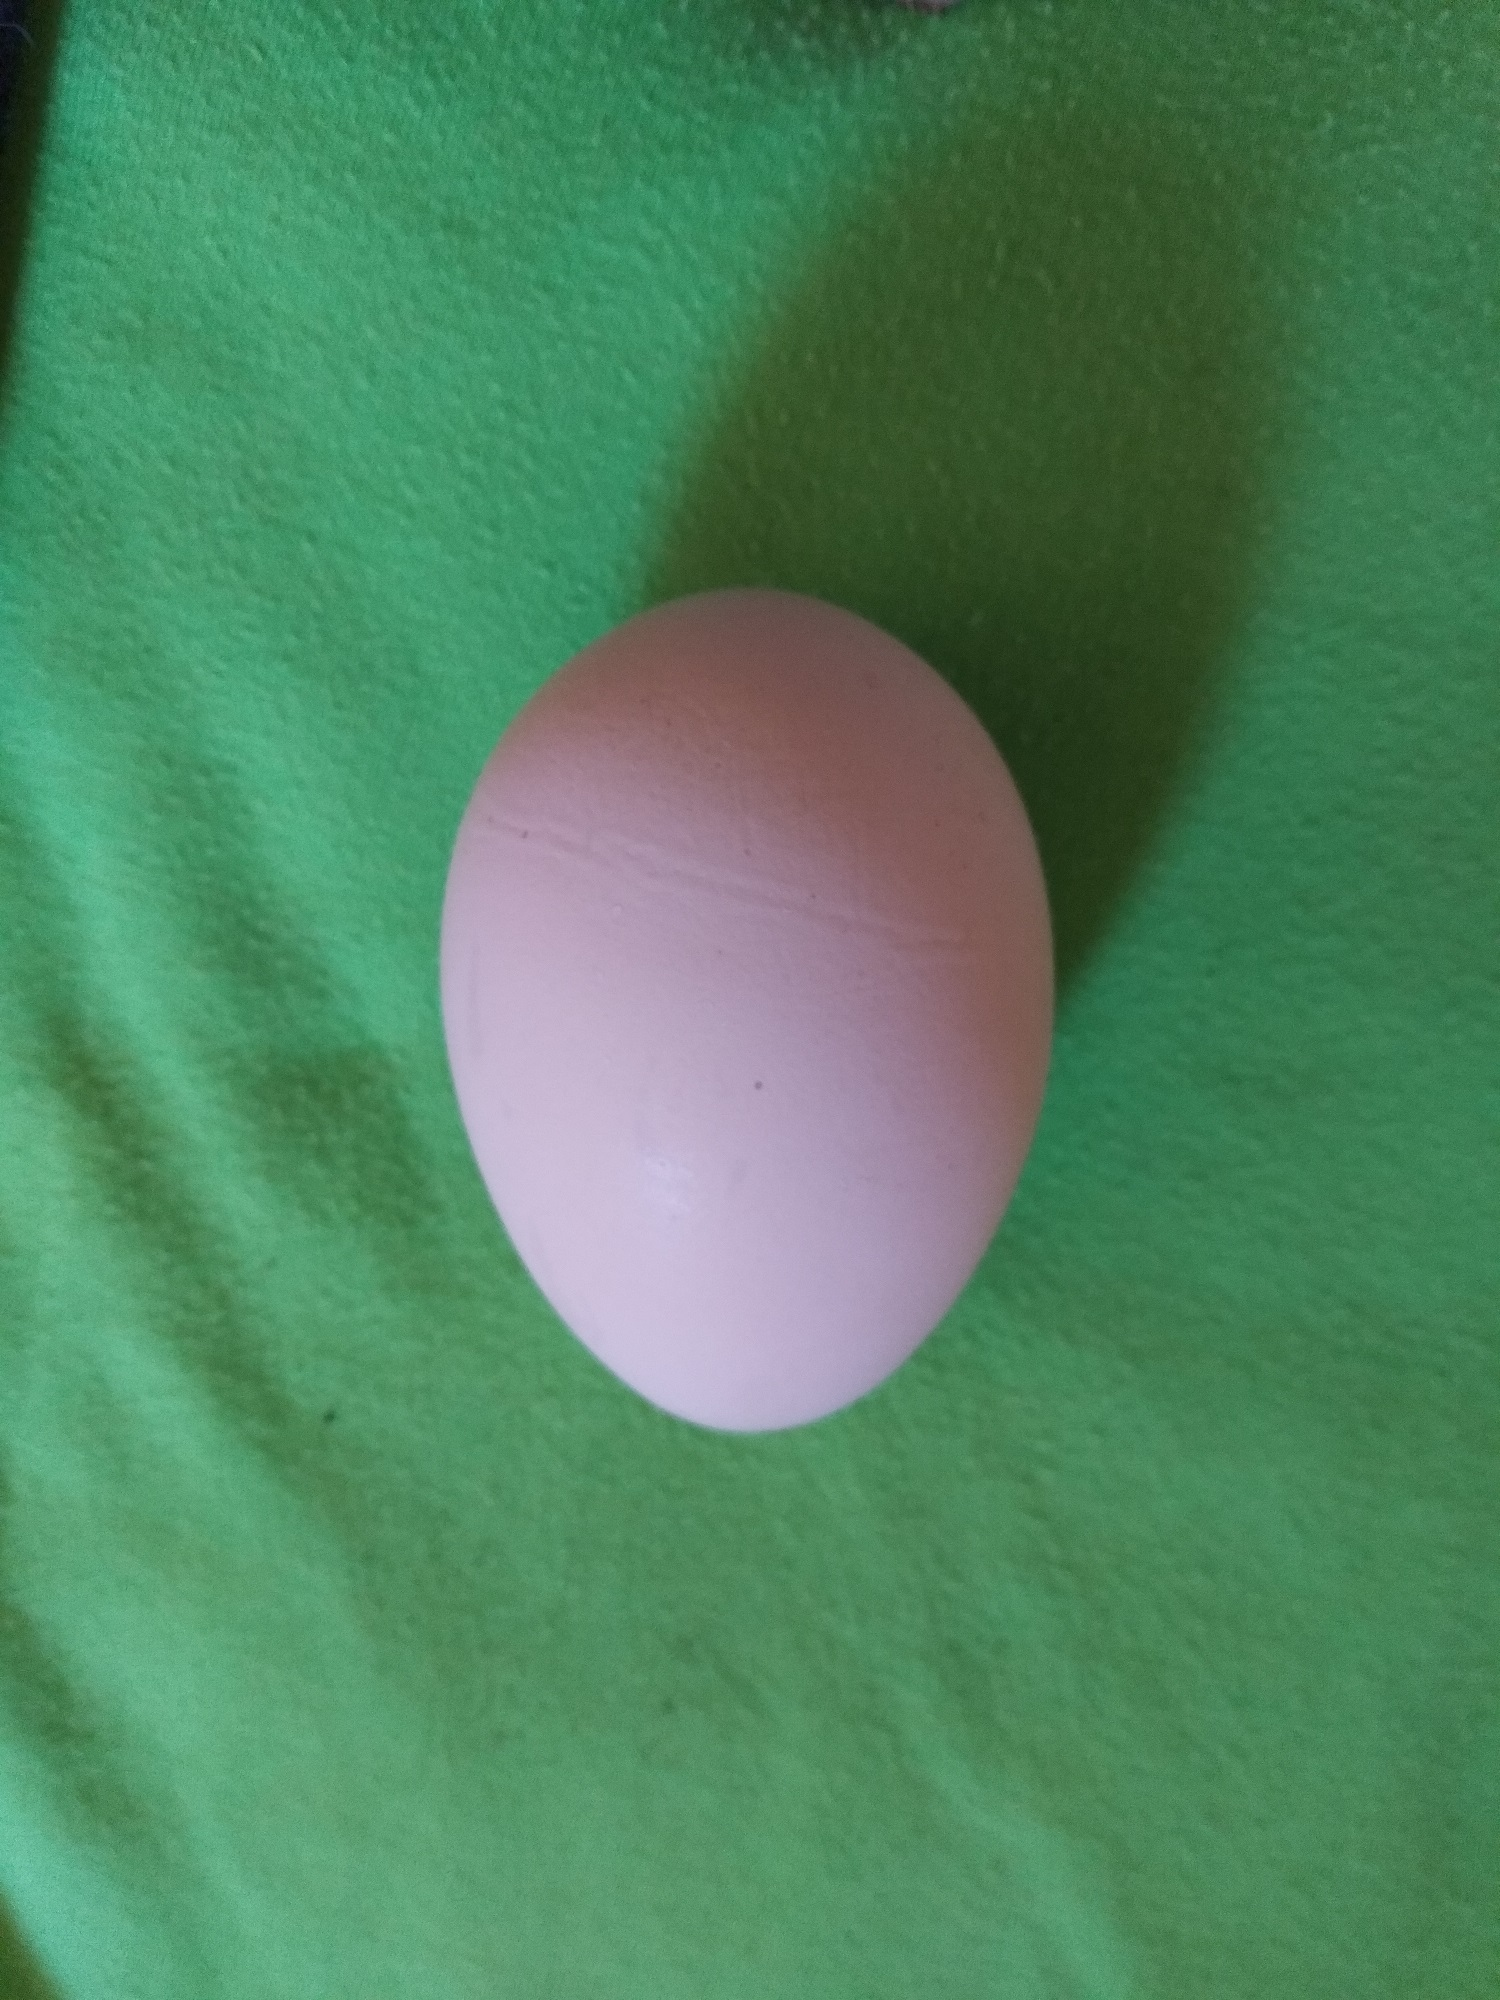Male: (432, 576, 1057, 1446)
